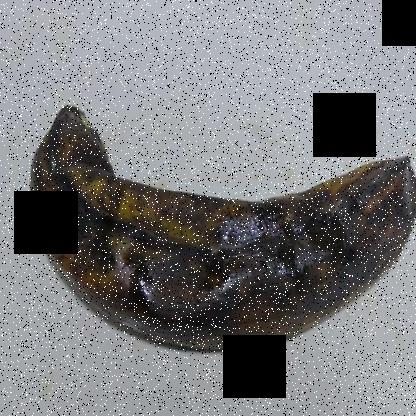rotten: (25, 90, 415, 356)
